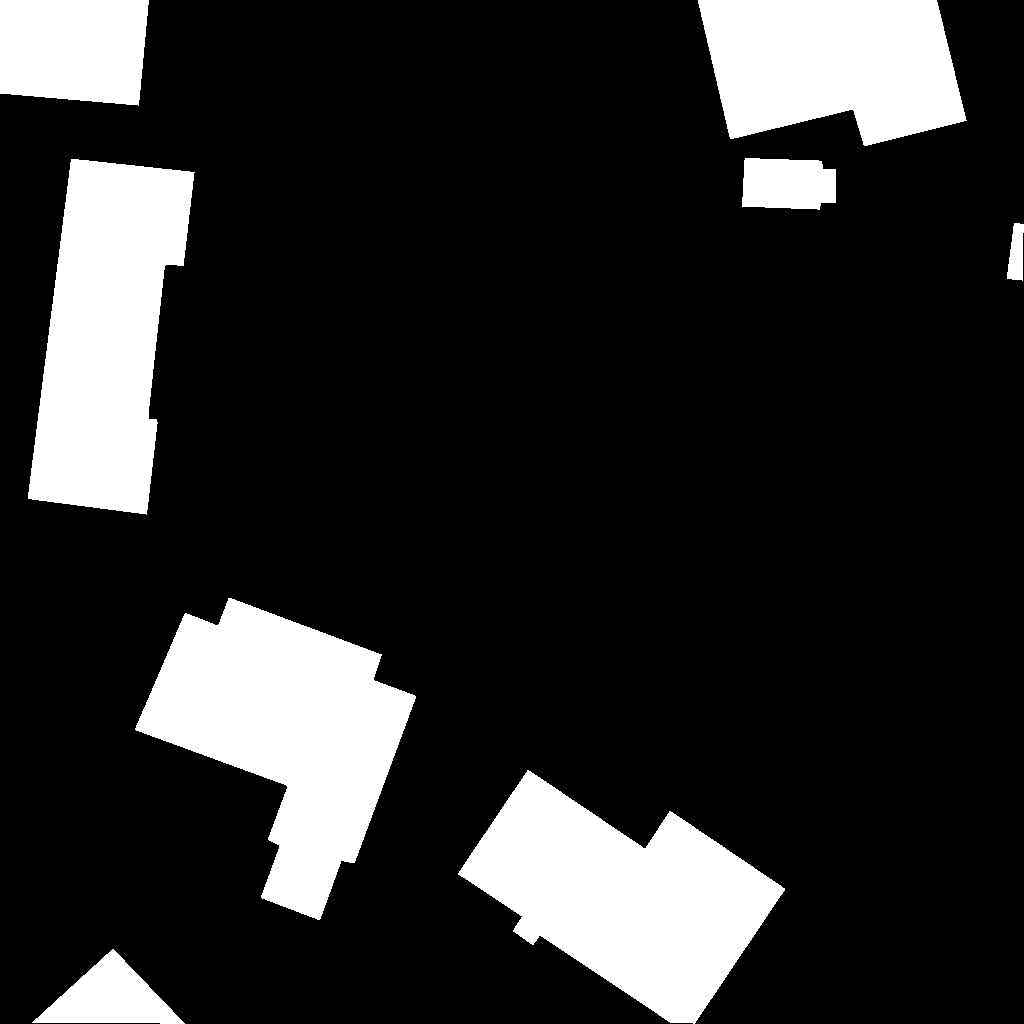building: (135, 598, 417, 921), (458, 770, 786, 1024), (28, 159, 195, 515), (698, 0, 967, 147), (0, 0, 150, 106), (32, 949, 186, 1024), (742, 158, 837, 210), (1007, 223, 1024, 281)
